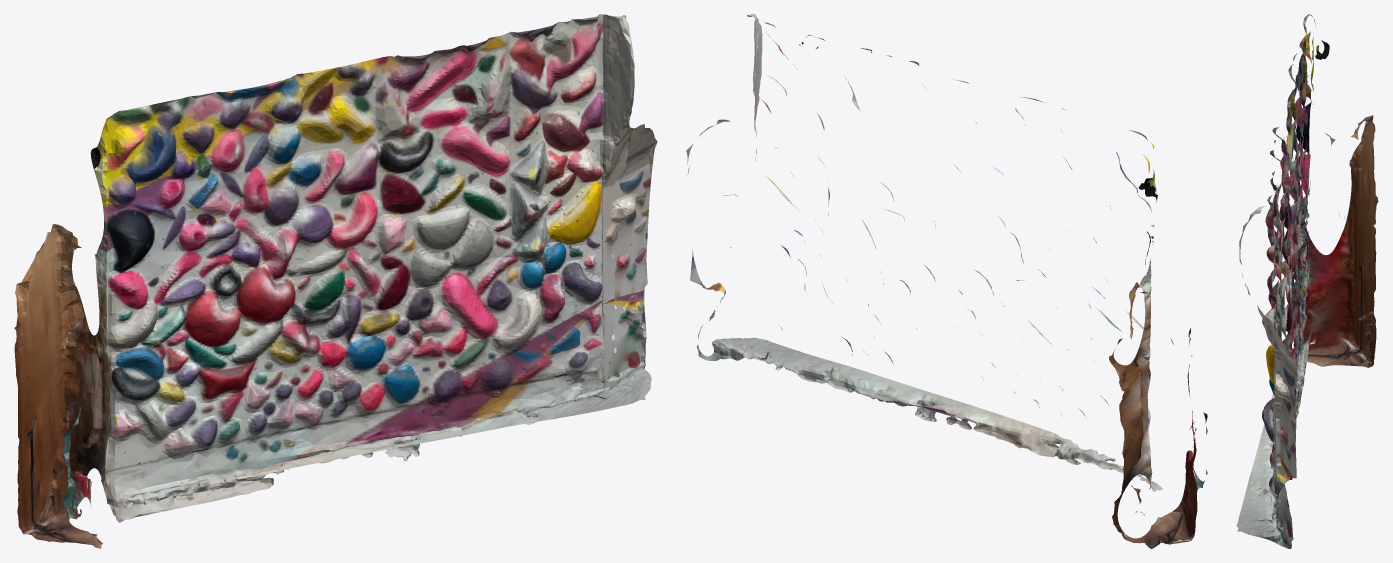
Rendered from source.glb.
3 views of the same model, side by side, from view 1: azimuth 30°, elevation 25°; view 2: azimuth 150°, elevation 25°; view 3: azimuth 270°, elevation 25° (orthographic). The views are drawn at different scales.
Bounding box in the file's own units: 5.65 × 3.85 × 1.36.
Materials: 1 (1 with a texture image).
